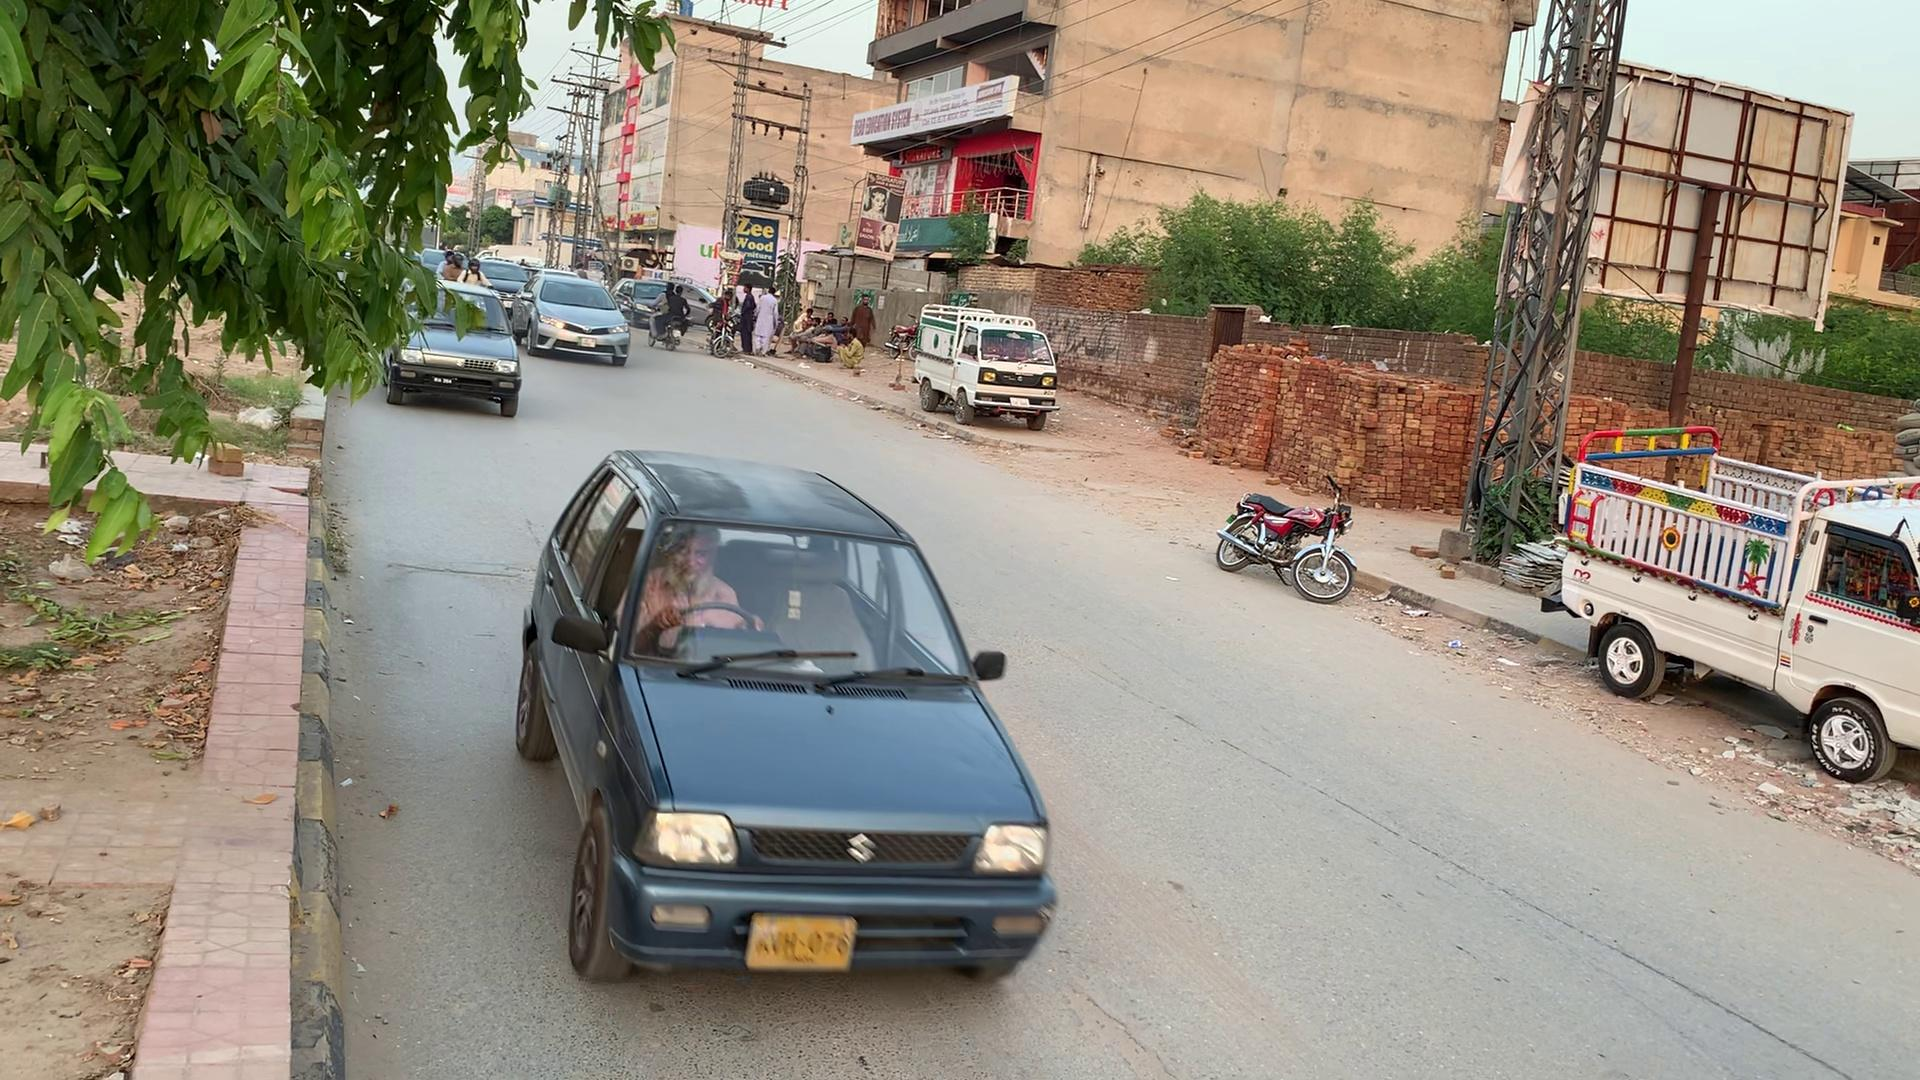windshield: (601, 500, 977, 690)
